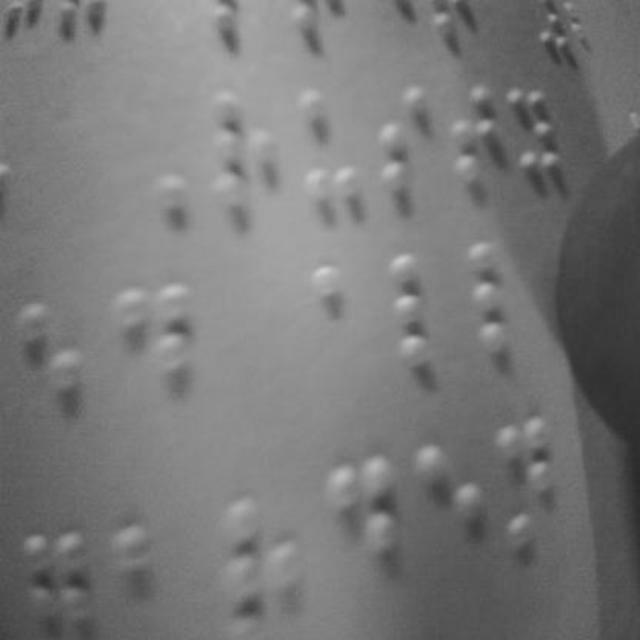braiile: (9, 301, 92, 457), (322, 458, 402, 618), (490, 417, 566, 583), (114, 271, 192, 427), (414, 443, 484, 601), (211, 85, 287, 218), (390, 244, 466, 372), (468, 236, 544, 362), (308, 257, 376, 387), (297, 81, 367, 205), (372, 74, 438, 204), (445, 66, 509, 200), (507, 72, 568, 186), (114, 522, 172, 640)
